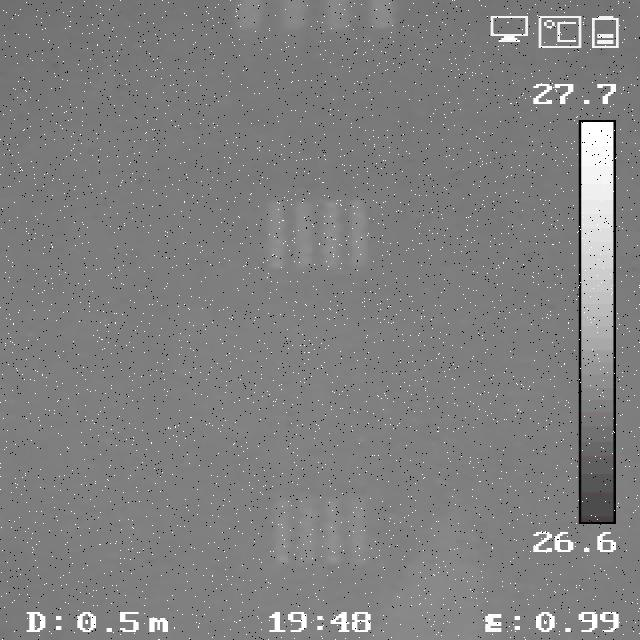threshold 4-bar target: (261, 196, 371, 270), (270, 499, 374, 566)
